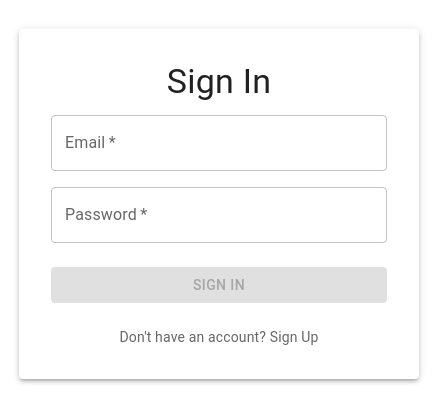
Scenario: LoginForm › should show password error when password is empty after blur
Click the password field labelled "Password *": (219, 215) top-left (51, 187), bottom-right (387, 243)
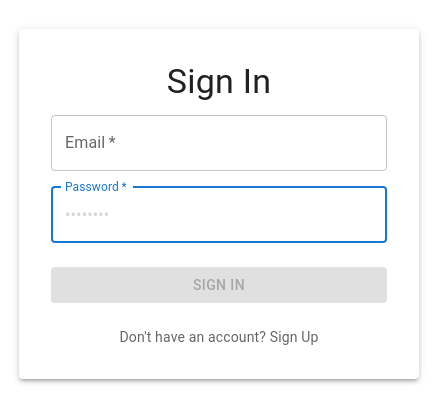
Press Tab
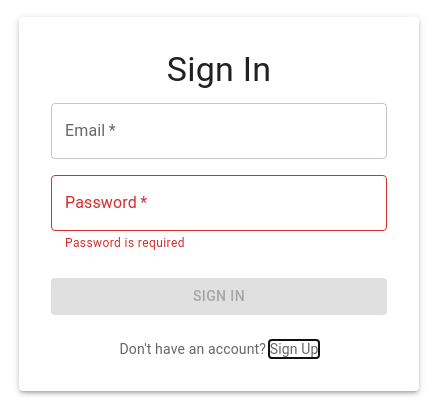
Check: the text "Password is required" is shown, box top-left (65, 236), bottom-right (185, 250)
